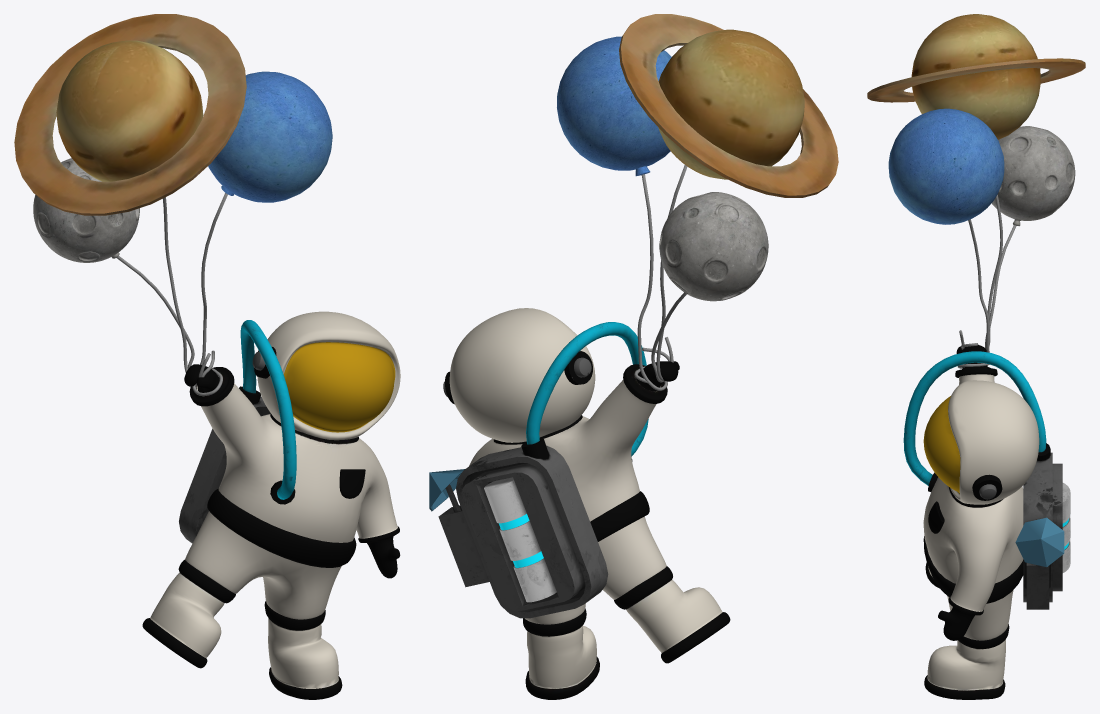
Rendered from lil_astro.glb.
The picture shows the model from 3 angles, left to right: view 1: azimuth 30°, elevation 25°; view 2: azimuth 150°, elevation 25°; view 3: azimuth 270°, elevation 25°; orthographic projection. The views are drawn at different scales.
Parts seen in each view (by area): view 1: Sphere, Cube.001, Cube, Sphere.002, Cube.002, Sphere.001, Cube.004, NurbsPath, Cube.003, NurbsPath.001, Cube.005; view 2: Sphere, Cube.003, Cube, Cube.001, Cube.002, Sphere.002, Sphere.001, Cylinder.002, NurbsPath, NurbsPath.001, Cube.004, Cylinder.001 (+1 smaller); view 3: Sphere, Cube, Cube.001, Sphere.002, Sphere.001, Cube.002, Cube.003, NurbsPath, Cone, NurbsPath.001, Cube.004, Cylinder.002 (+2 smaller).
Boxes of the visible parts, bbox=[...] form: Sphere: bbox=[14, 14, 246, 215]; Cube.001: bbox=[185, 367, 399, 619]; Cube: bbox=[184, 311, 400, 578]; Sphere.002: bbox=[208, 71, 332, 202]; Cube.002: bbox=[142, 559, 342, 699]; Sphere.001: bbox=[33, 158, 139, 262]; Cube.004: bbox=[207, 488, 356, 567]; NurbsPath: bbox=[240, 320, 296, 499]; Cube.003: bbox=[179, 396, 270, 543]; NurbsPath.001: bbox=[116, 193, 227, 396]; Cube.005: bbox=[339, 469, 365, 498]; Sphere: bbox=[619, 14, 838, 197]; Cube.003: bbox=[438, 445, 608, 618]; Cube: bbox=[449, 308, 679, 442]; Cube.001: bbox=[469, 364, 667, 624]; Cube.002: bbox=[523, 566, 730, 699]; Sphere.002: bbox=[557, 36, 671, 176]; Sphere.001: bbox=[659, 192, 768, 301]; Cylinder.002: bbox=[484, 477, 556, 602]; NurbsPath: bbox=[526, 322, 648, 456]; NurbsPath.001: bbox=[634, 165, 687, 390]; Cube.004: bbox=[590, 491, 649, 541]; Cylinder.001: bbox=[443, 351, 592, 404]; Sphere: bbox=[867, 14, 1085, 139]; Cube: bbox=[923, 345, 1039, 640]; Cube.001: bbox=[923, 366, 1023, 640]; Sphere.002: bbox=[888, 108, 1004, 224]; Sphere.001: bbox=[991, 126, 1075, 226]; Cube.002: bbox=[924, 562, 1009, 699]; Cube.003: bbox=[1023, 452, 1062, 609]; NurbsPath: bbox=[903, 351, 1046, 485]; Cone: bbox=[1015, 517, 1064, 567]; NurbsPath.001: bbox=[957, 194, 1016, 368]; Cube.004: bbox=[923, 536, 1023, 603]; Cylinder.002: bbox=[1062, 483, 1070, 572].
Bounding box in the file's own units: 1008 × 1796 × 593.
15 materials, 15 textured.
